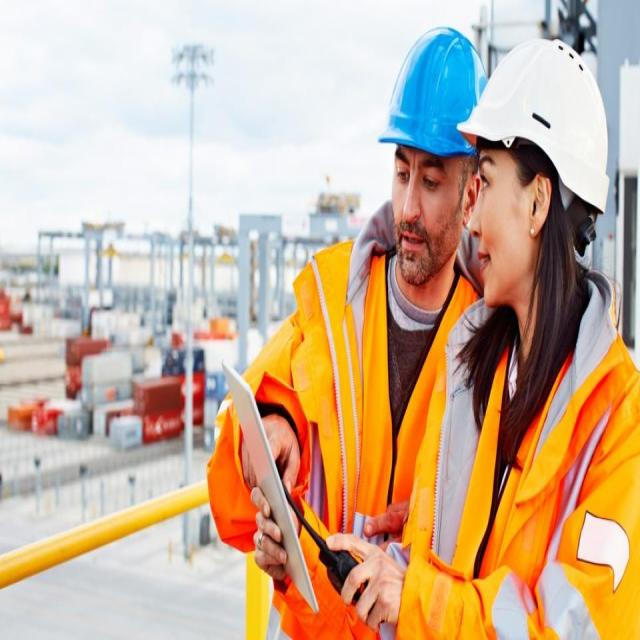Reflective-Jacket: (245, 245, 477, 633), (420, 308, 634, 638)
Safety-Helmet: (461, 34, 614, 214), (375, 21, 486, 162)
